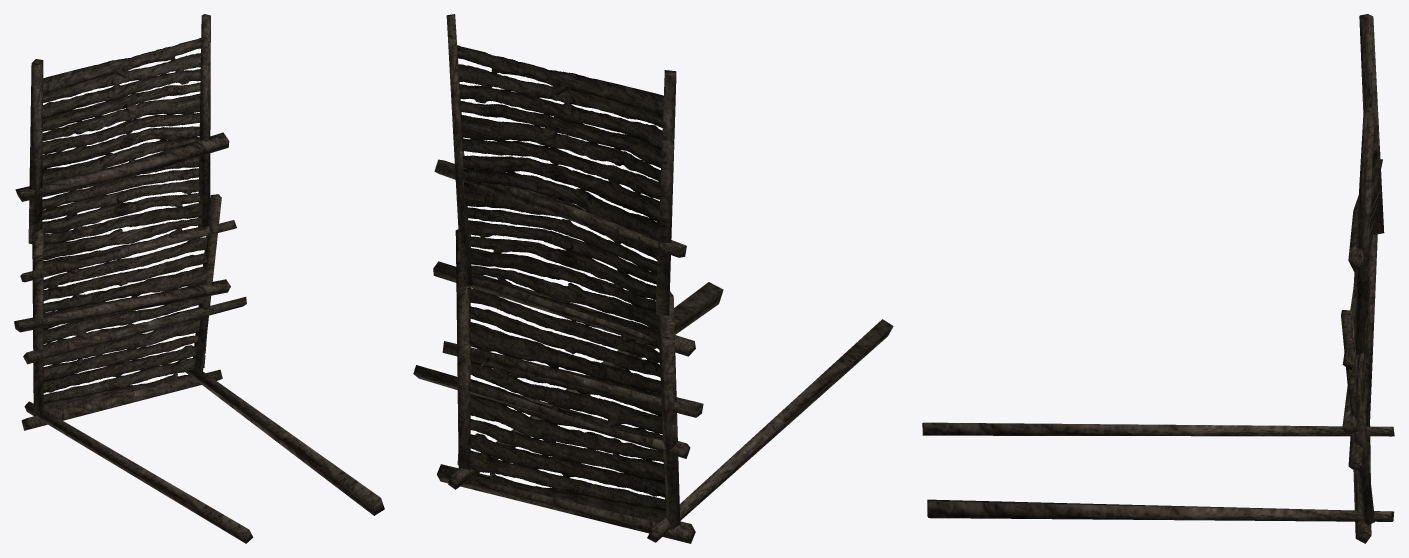
Rendered from MEP_Walk_03.fbx.
3 renders of one model, left to right at view 1: azimuth 30°, elevation 25°; view 2: azimuth 150°, elevation 25°; view 3: azimuth 270°, elevation 25°, orthographic. The views are drawn at different scales.
Parts seen in each view (by area): view 1: MEP_Walk_03; view 2: MEP_Walk_03; view 3: MEP_Walk_03.
Boxes of the visible parts, <box> form: MEP_Walk_03: <box>14,14,384,543</box>; MEP_Walk_03: <box>413,14,893,543</box>; MEP_Walk_03: <box>922,14,1394,543</box>.
Bounding box in the file's own units: 3.56 × 5.56 × 5.5.
